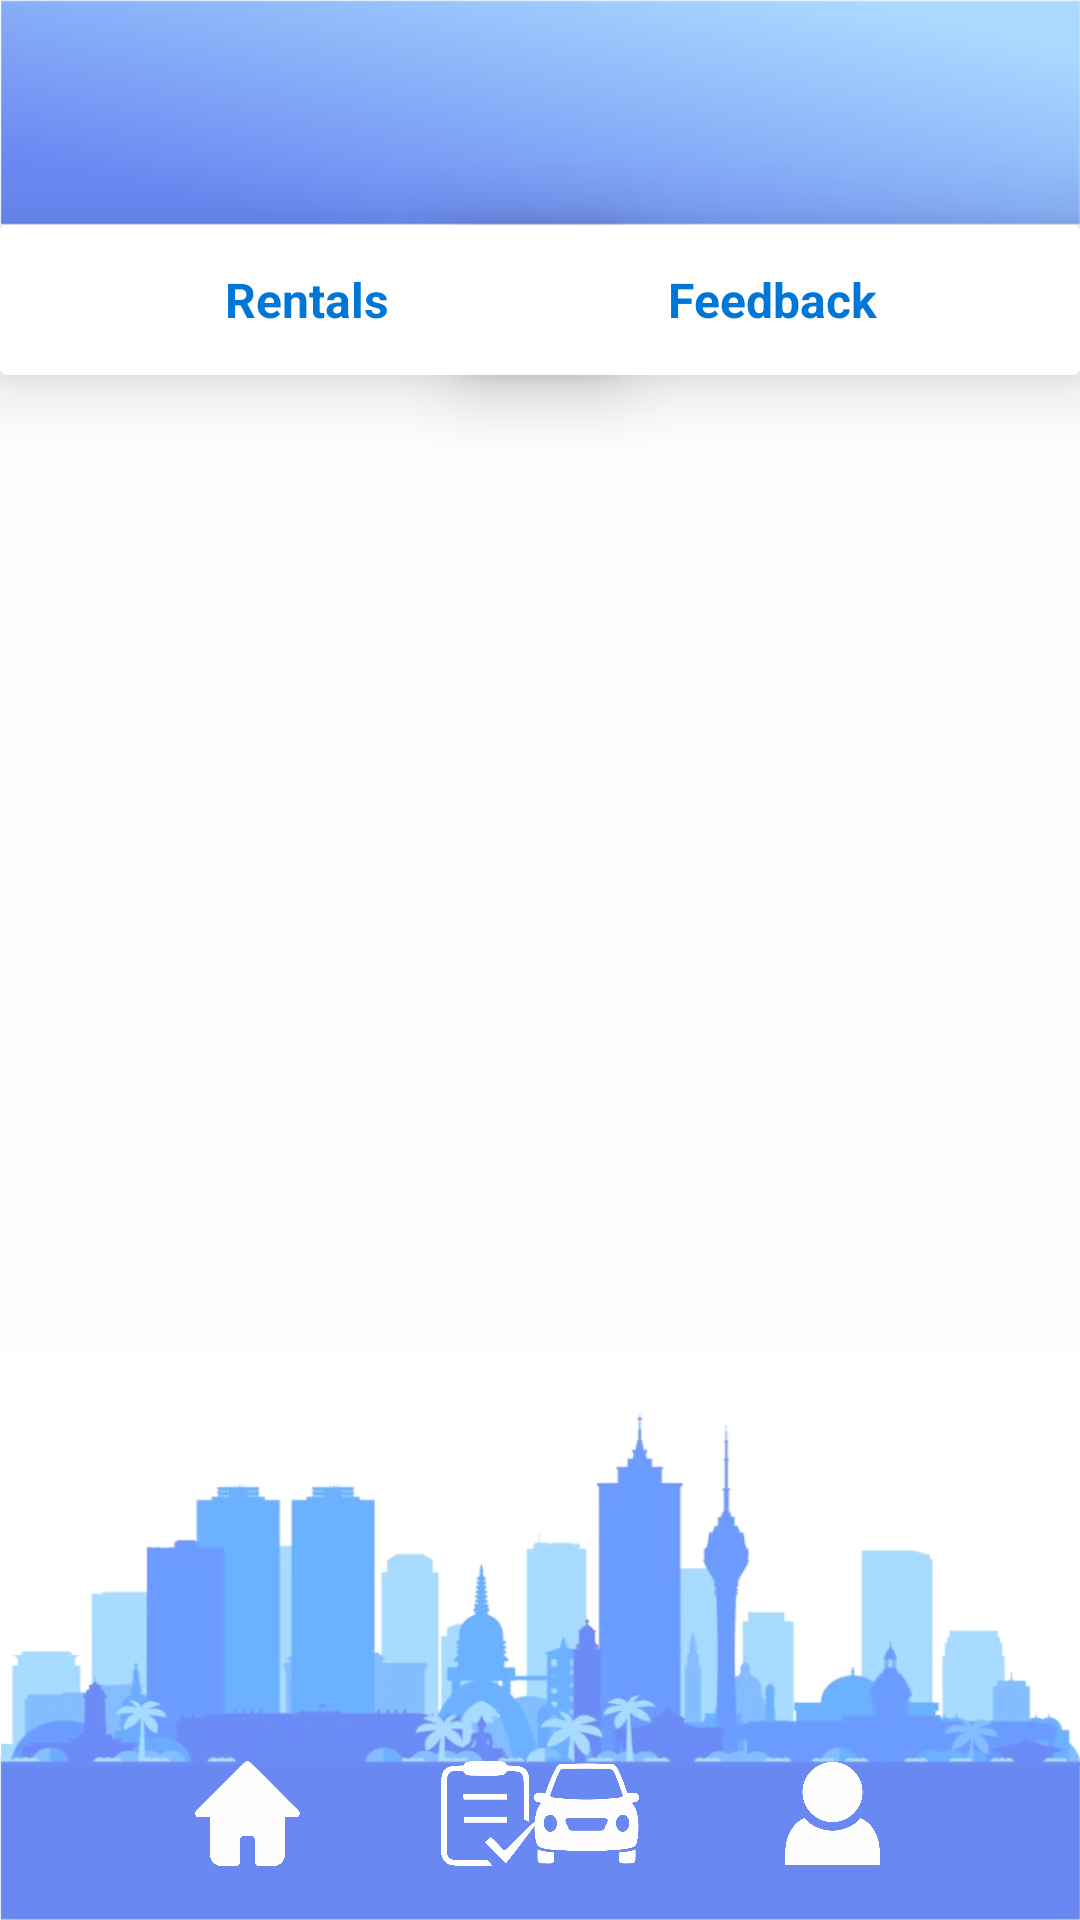

Locate icon controls on the screen. Image size 1080px×1920px, boxes as BBox(x1, y1, x2, y2).
home: BBox(195, 1761, 300, 1866)
vehicle: BBox(534, 1761, 639, 1864)
